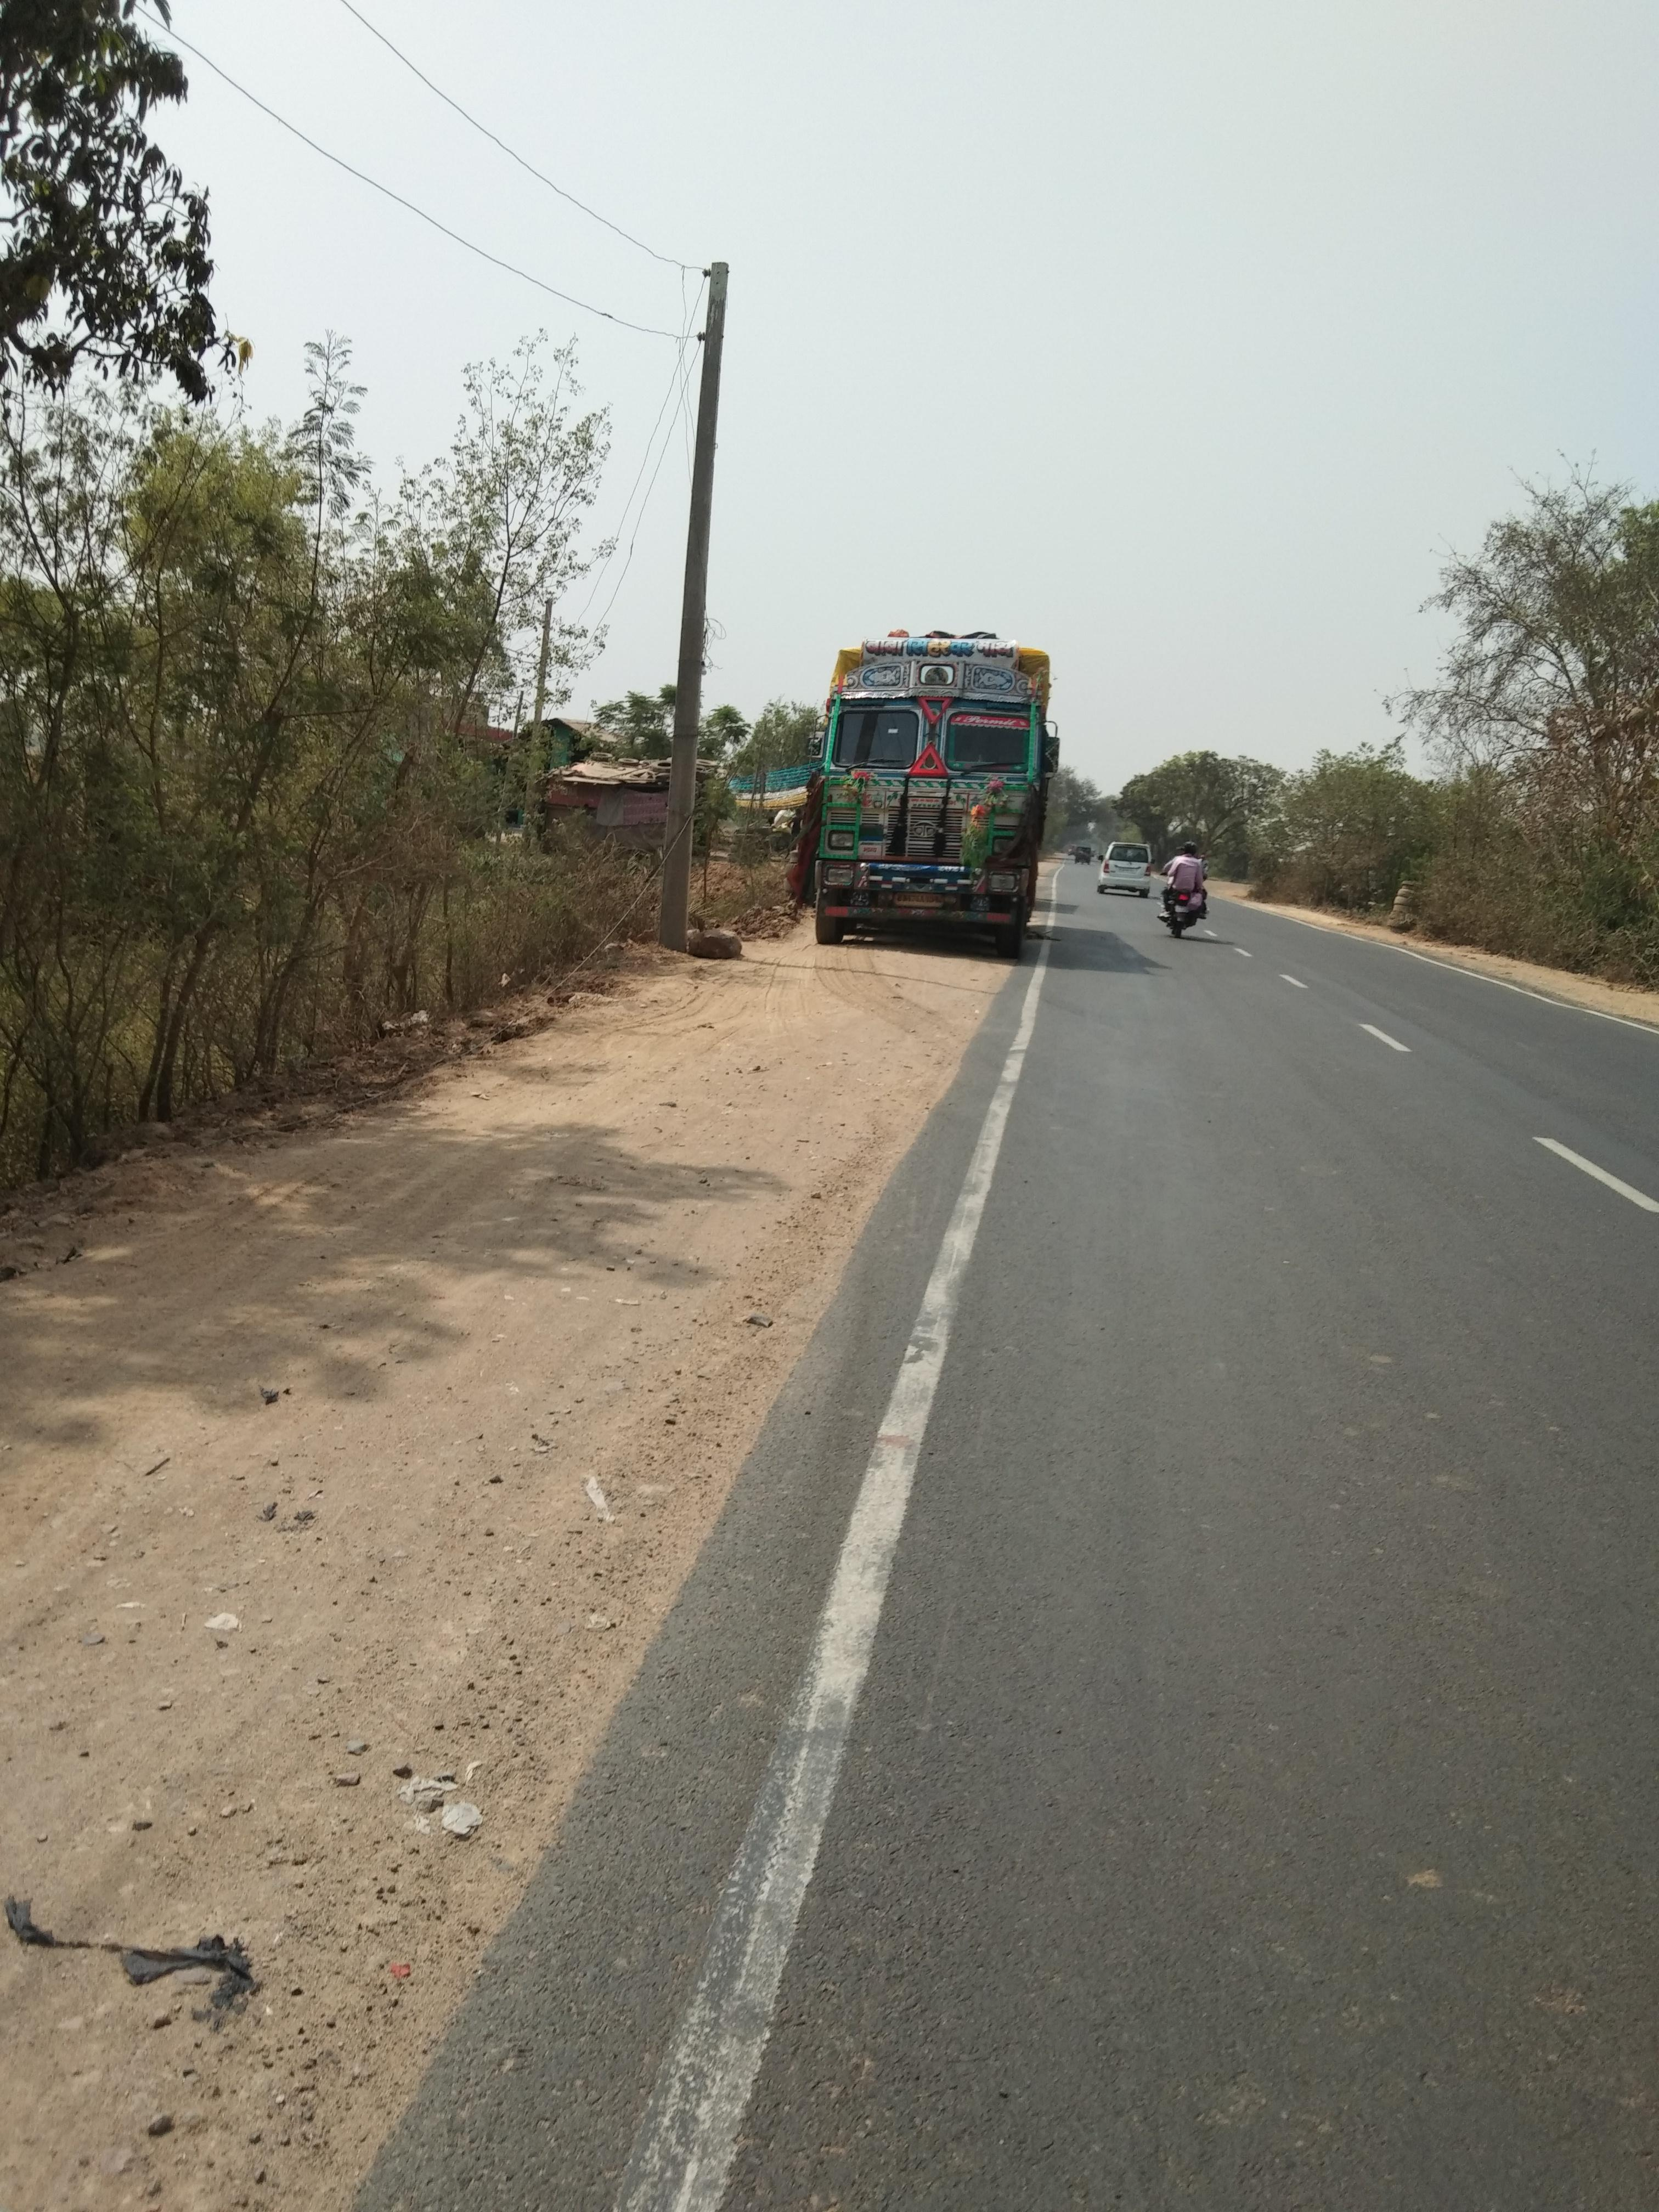Truck: (742, 594, 1143, 1087)
